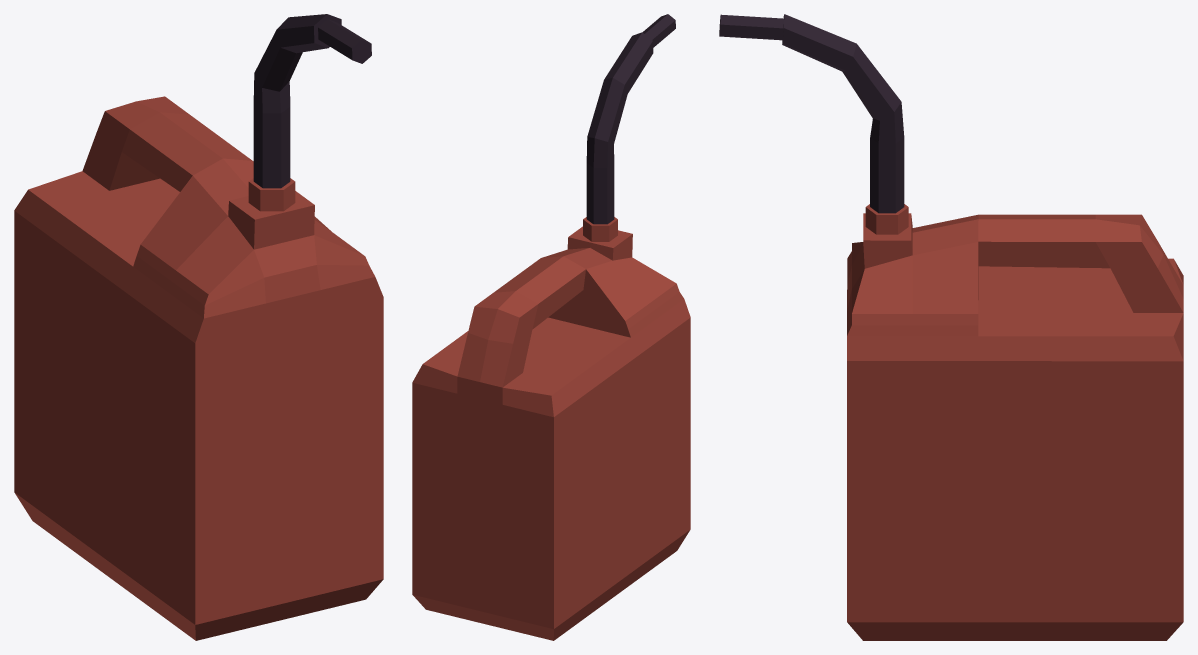
Rendered from FuelTank.fbx.
3 renders of one model, left to right at view 1: azimuth 30°, elevation 25°; view 2: azimuth 150°, elevation 25°; view 3: azimuth 270°, elevation 25°, orthographic. The views are drawn at different scales.
Visible parts, largest first — view 1: FuelTank; view 2: FuelTank; view 3: FuelTank.
Boxes of the visible parts, x1,y1,x2,y2 form: FuelTank: (14,14,383,640); FuelTank: (412,14,690,640); FuelTank: (719,14,1183,640).
Bounding box in the file's own units: 0.4756 × 1.53 × 1.09.
